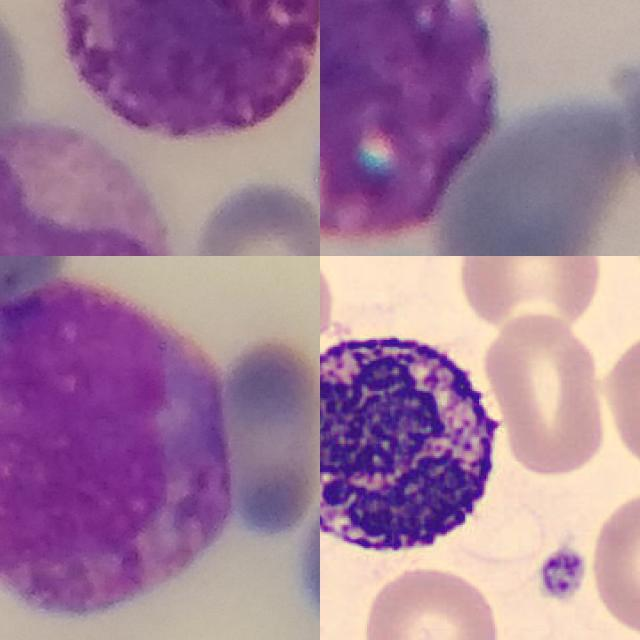Basophil: (0, 280, 237, 617), (320, 311, 511, 569), (320, 0, 499, 248), (61, 0, 320, 143)
Neutrophil: (0, 121, 178, 256)
Platelets: (534, 543, 591, 606)
RBC: (483, 308, 613, 481), (454, 256, 603, 338), (358, 560, 504, 640), (582, 482, 640, 640), (594, 322, 640, 477)
